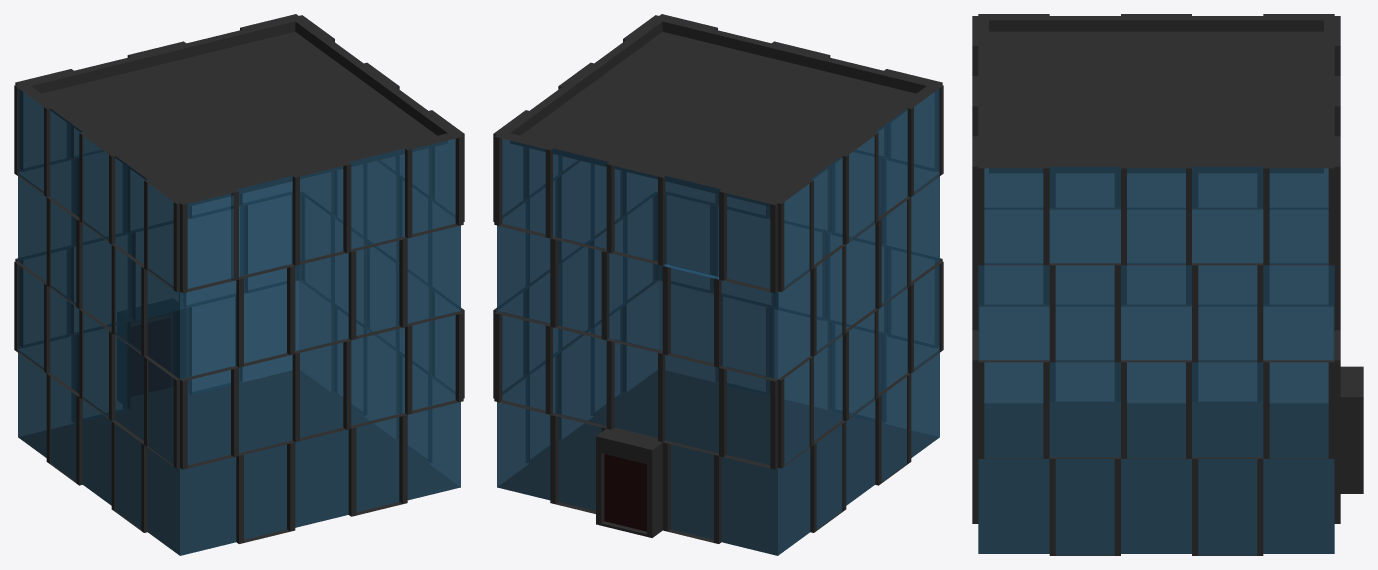
Rendered from Small_Office_Building.dae.
The picture shows the model from 3 angles, left to right: view 1: azimuth 30°, elevation 25°; view 2: azimuth 150°, elevation 25°; view 3: azimuth 270°, elevation 25°; orthographic projection. The views are drawn at different scales.
Parts seen in each view (by area): view 1: Square_tower3FBXASC058pCube3; view 2: Square_tower3FBXASC058pCube3; view 3: Square_tower3FBXASC058pCube3.
Part boxes in pixels (x1,y1,x2,y2): Square_tower3FBXASC058pCube3: [14, 14, 464, 555]; Square_tower3FBXASC058pCube3: [493, 14, 943, 555]; Square_tower3FBXASC058pCube3: [972, 14, 1363, 555].
Size of the model in its own units: 5.13 by 6 by 5.49.
